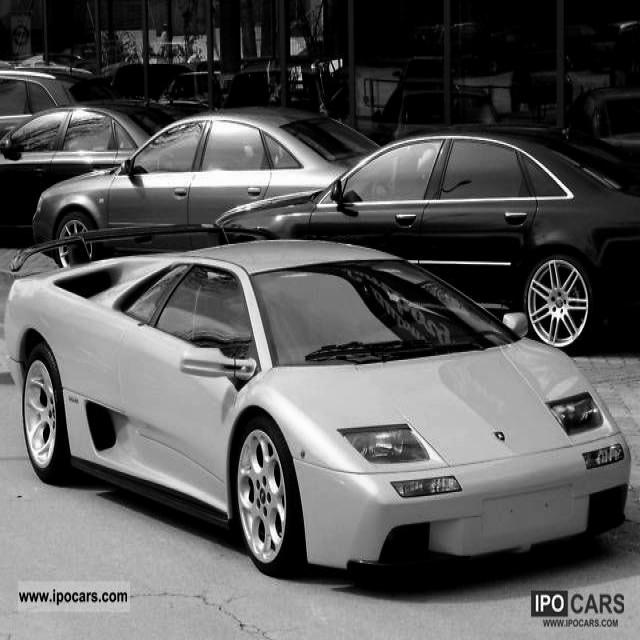car: (4, 228, 632, 579), (216, 132, 640, 352), (32, 106, 382, 268)
